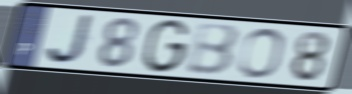8: (96, 16, 141, 70), (290, 30, 332, 84)
B: (184, 23, 242, 78)
G: (139, 17, 192, 75)
J: (44, 13, 98, 66)
O: (236, 26, 286, 81)
